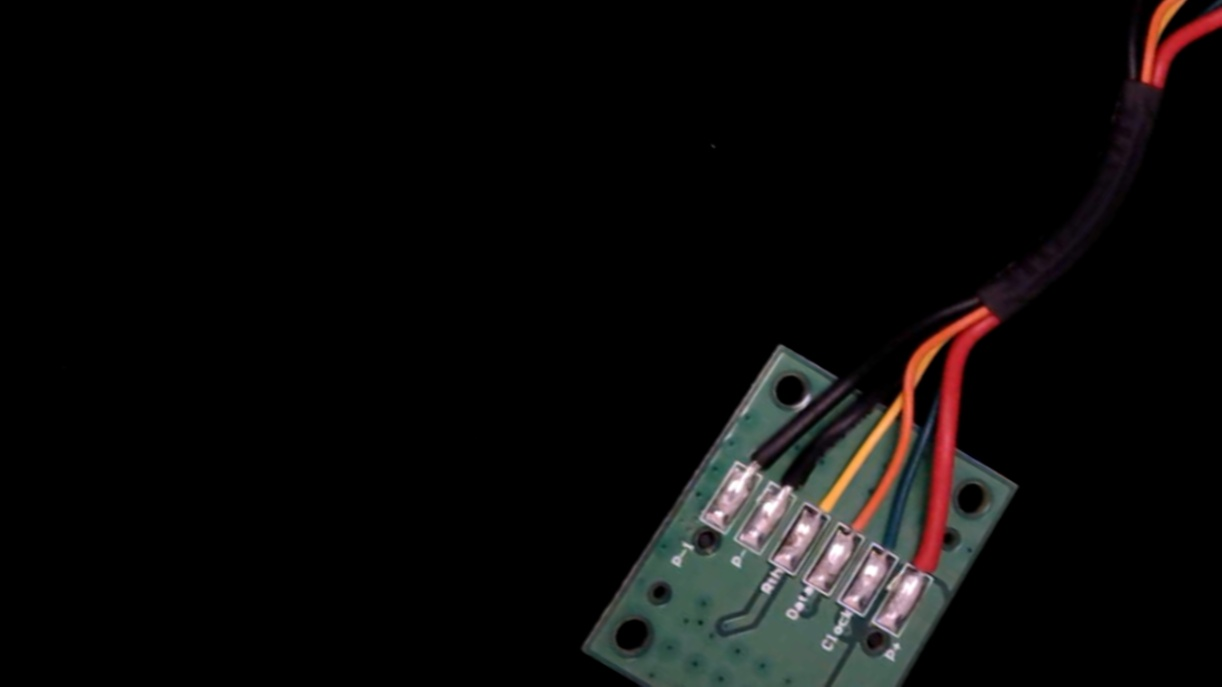Black: (753, 438, 830, 521)
Black1: (721, 422, 793, 498)
Green: (858, 499, 932, 581)
Orange: (823, 480, 897, 562)
Red: (892, 519, 966, 601)
Yellow: (791, 458, 868, 542)
